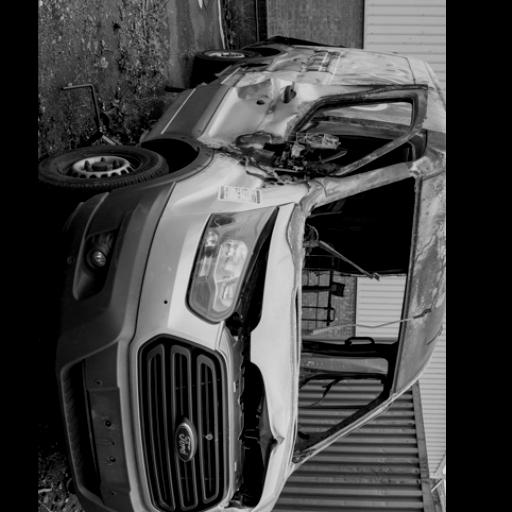van: (35, 40, 449, 512)
